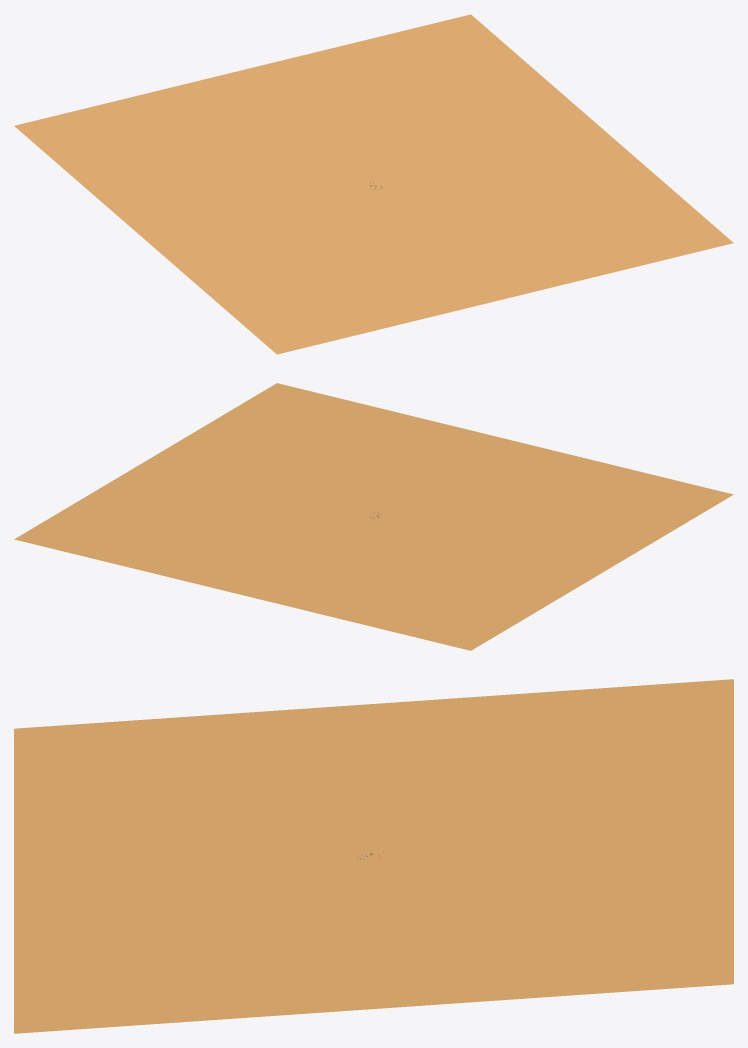
Rendered from Map5.fbx.
3 renders of one model, top to bottom at view 1: azimuth 30°, elevation 25°; view 2: azimuth 150°, elevation 25°; view 3: azimuth 270°, elevation 25°, orthographic. The views are drawn at different scales.
Parts seen in each view (by area): view 1: Fog; view 2: Fog; view 3: Fog.
Part boxes in pixels (x1=…): Fog: x1=14, y1=14, x2=733, y2=354; Fog: x1=14, y1=383, x2=733, y2=650; Fog: x1=14, y1=679, x2=733, y2=1033.
Size of the model in its own units: 100000 by 7567 by 99713.
